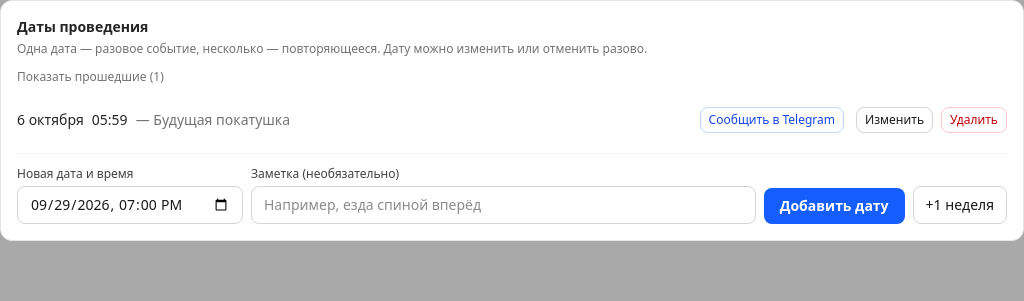
Test: EventDatesManager › прошедшие даты › скрыты по умолчанию и раскрываются кнопкой
This screenshot has width=1024, height=301.
Check: the text "— Будущая покатушка" is shown, box [136,110,290,129]
Check: the text "Прошлая покатушка" is not shown
Click the button "Показать прошедшие (1)" at (90, 77), box [17,69,164,85]
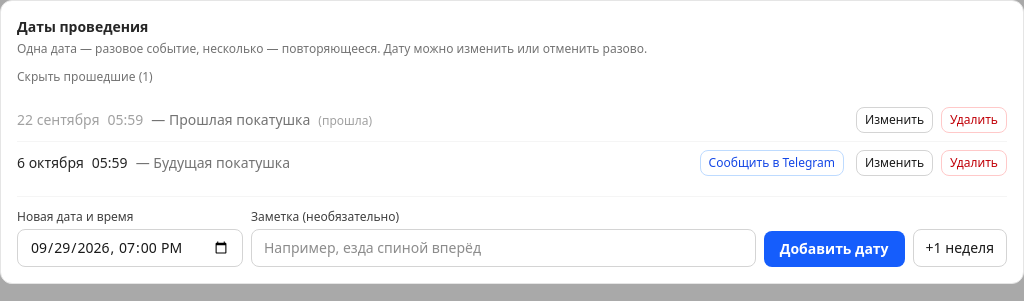
Check: the text "— Прошлая покатушка" is shown, box [151,110,310,129]
